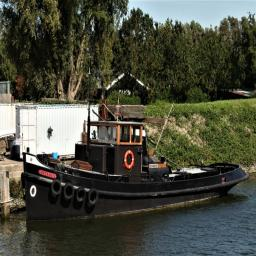tugboat: (21, 114, 252, 229)
